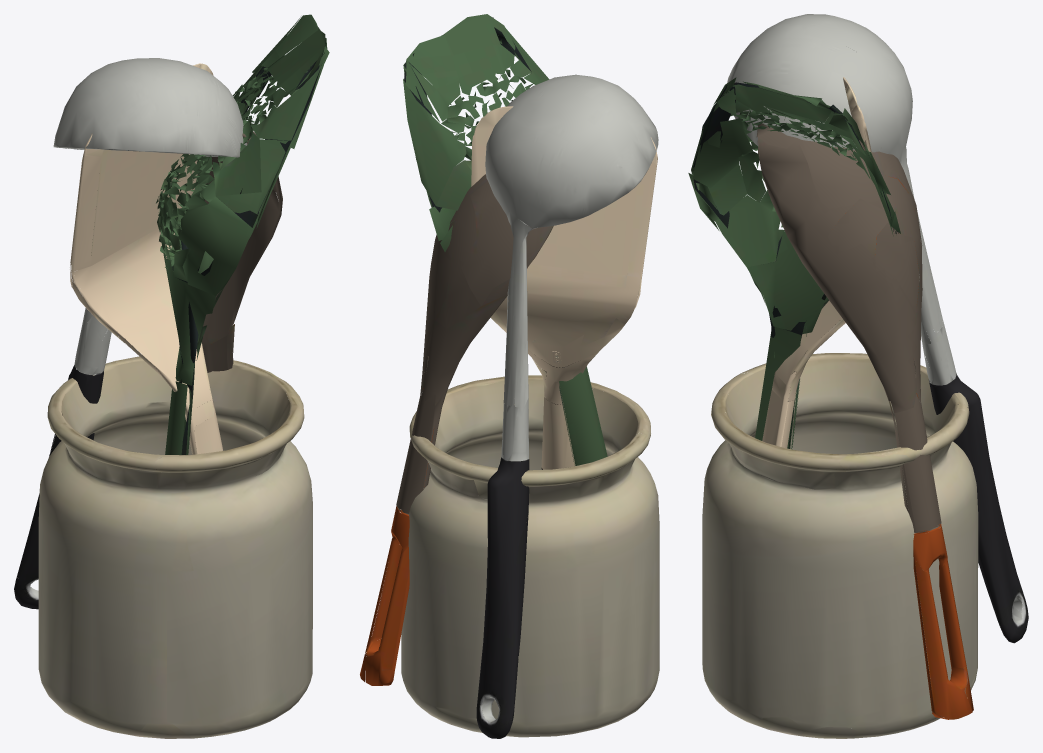
3 views of the same model, side by side, from view 1: azimuth 30°, elevation 25°; view 2: azimuth 150°, elevation 25°; view 3: azimuth 270°, elevation 25° (orthographic). The views are drawn at different scales.
Visible parts, largest first — view 1: brugdhaj-crock.001, knorrhane-slotted.001, knorrhane-turner.001, hjalte-ladle.001, knorrhane-spoon.001; view 2: brugdhaj-crock.001, hjalte-ladle.001, knorrhane-turner.001, knorrhane-spoon.001, knorrhane-slotted.001; view 3: brugdhaj-crock.001, knorrhane-spoon.001, hjalte-ladle.001, knorrhane-slotted.001, knorrhane-turner.001.
Part boxes in pixels (x1,y1,x2,y2): brugdhaj-crock.001: (38, 356, 312, 738); knorrhane-slotted.001: (156, 14, 329, 454); knorrhane-turner.001: (70, 63, 223, 454); hjalte-ladle.001: (14, 58, 247, 609); knorrhane-spoon.001: (202, 131, 282, 372); brugdhaj-crock.001: (401, 375, 659, 737); hjalte-ladle.001: (476, 74, 658, 738); knorrhane-turner.001: (471, 106, 657, 469); knorrhane-spoon.001: (360, 174, 553, 685); knorrhane-slotted.001: (403, 14, 607, 465); brugdhaj-crock.001: (702, 353, 978, 738); knorrhane-spoon.001: (756, 123, 973, 719); hjalte-ladle.001: (727, 14, 1028, 643); knorrhane-slotted.001: (688, 77, 900, 449); knorrhane-turner.001: (762, 77, 872, 448).
Size of the model in its own units: 0.1394 by 0.3479 by 0.1634.
Materials: 5 (5 with a texture image).
